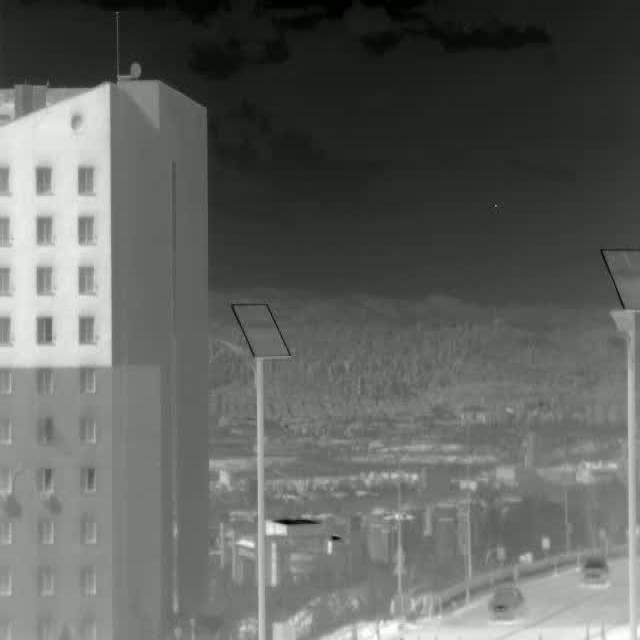Car: (488, 586, 526, 626), (580, 555, 609, 589)
